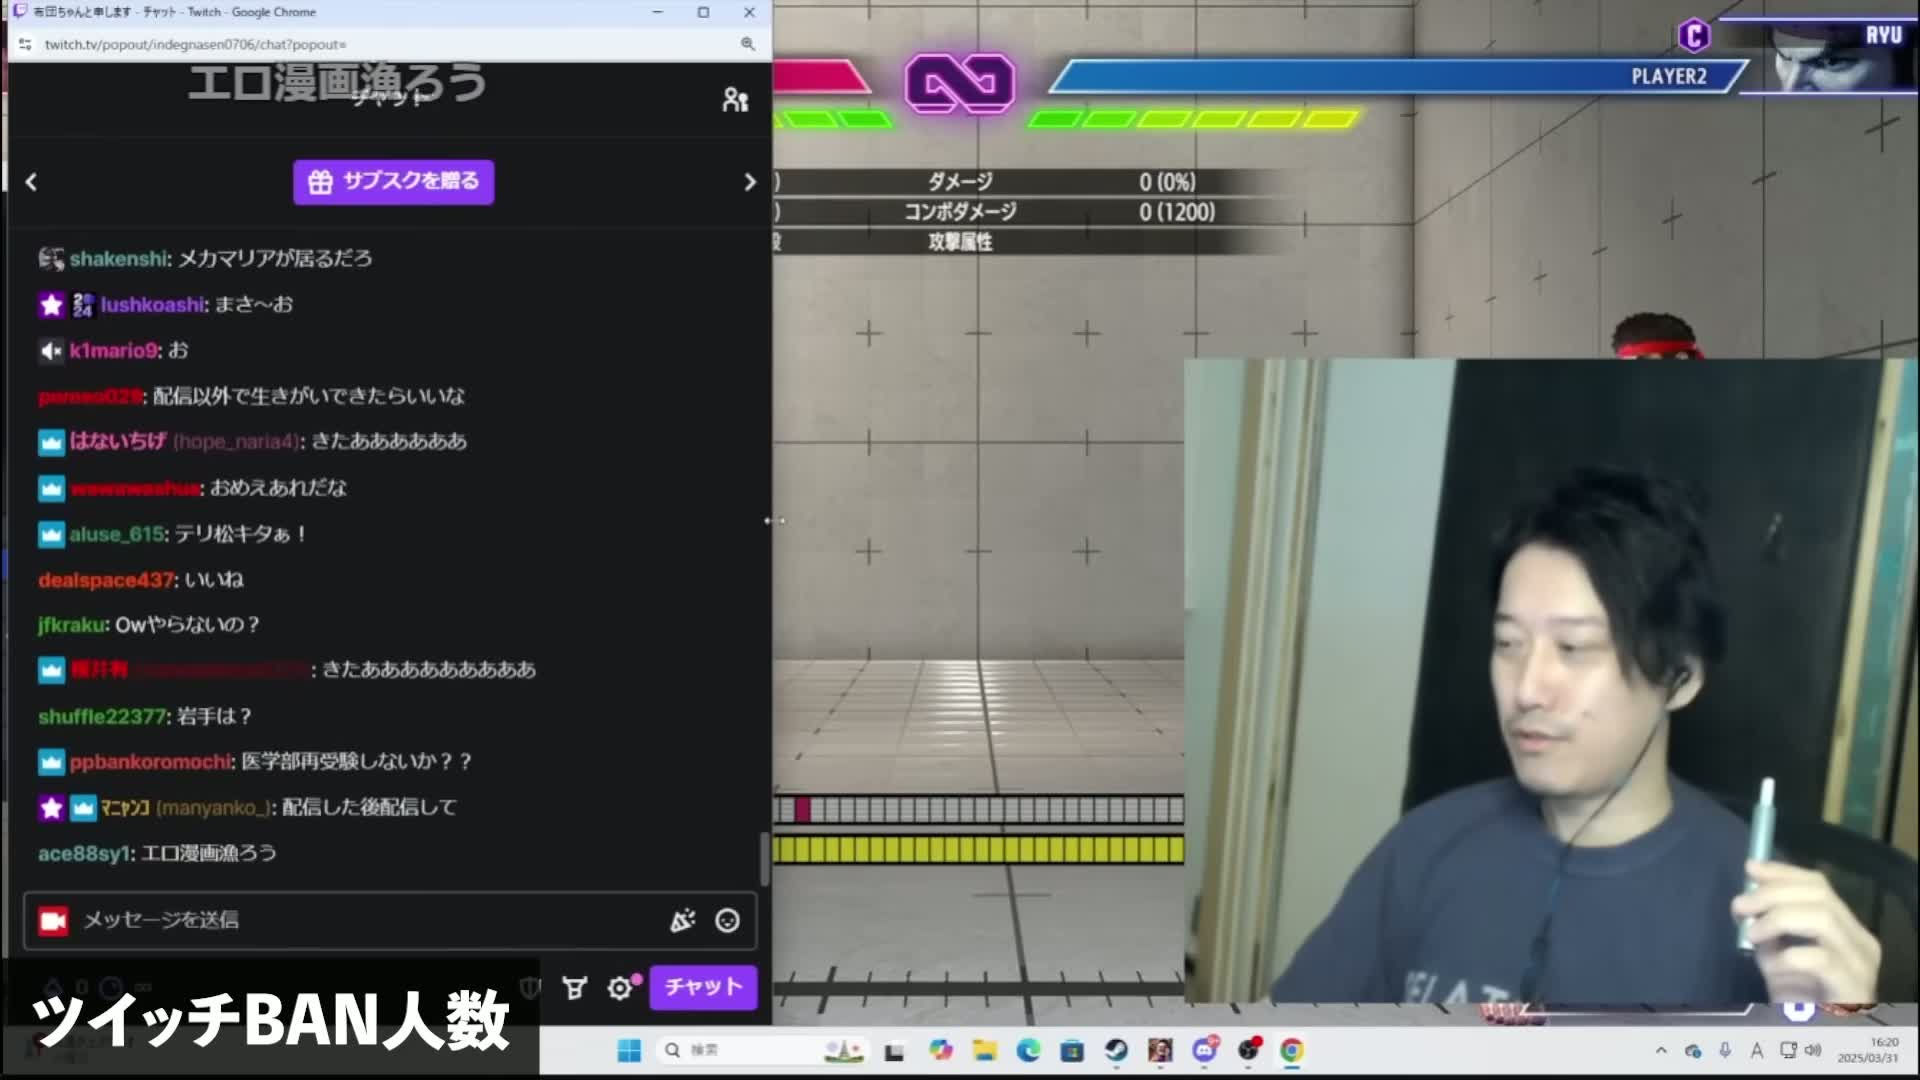stream_tag: (1188, 357, 1920, 1004)
